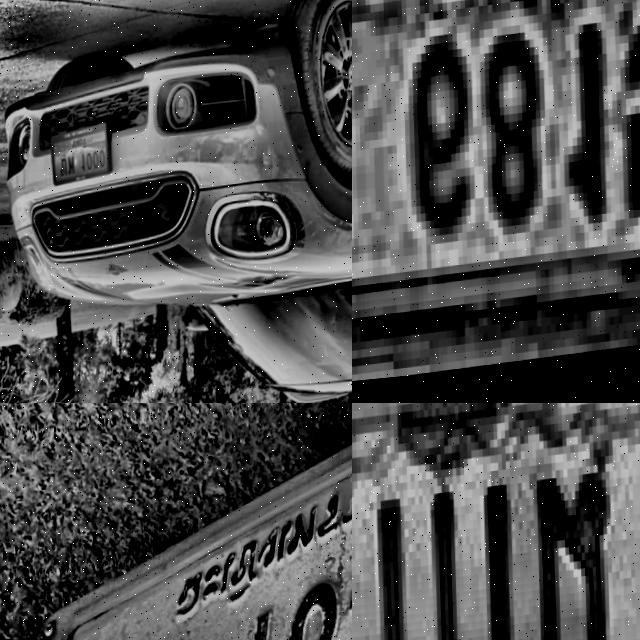license-plate: (352, 0, 640, 386), (0, 403, 352, 640), (352, 403, 640, 640), (48, 120, 114, 191)
